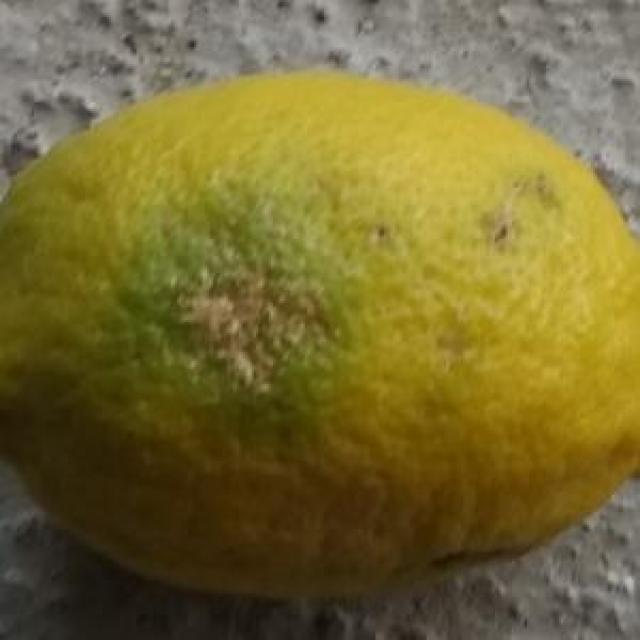lemon: (0, 64, 640, 606)
